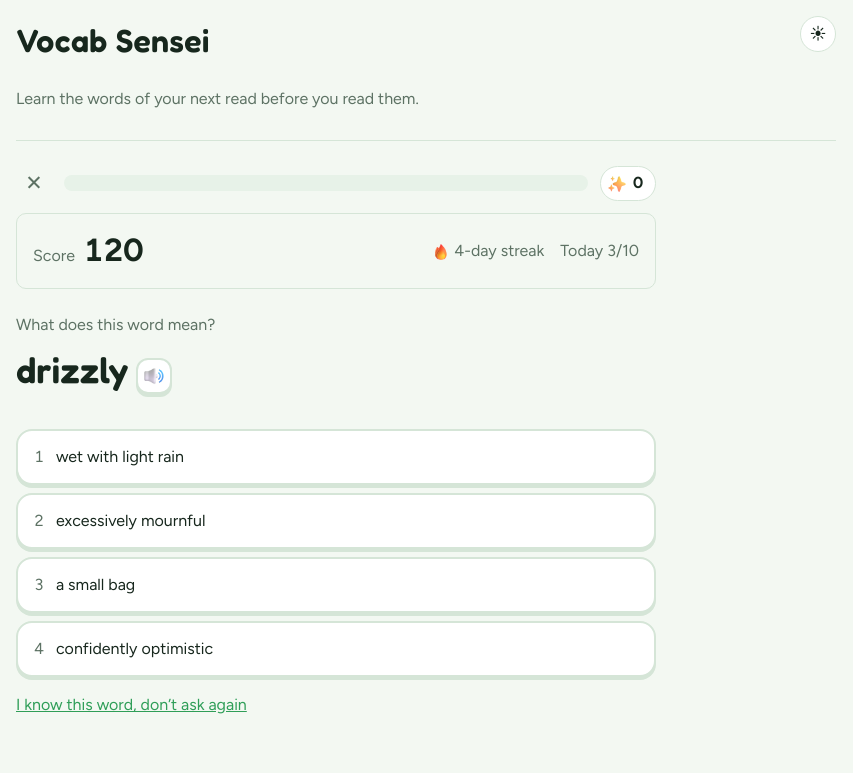
Test: quiz › never ends: Next brings another question
Click the button "1 wet with light rain".
click(120, 457)  # box [16, 430, 656, 486]
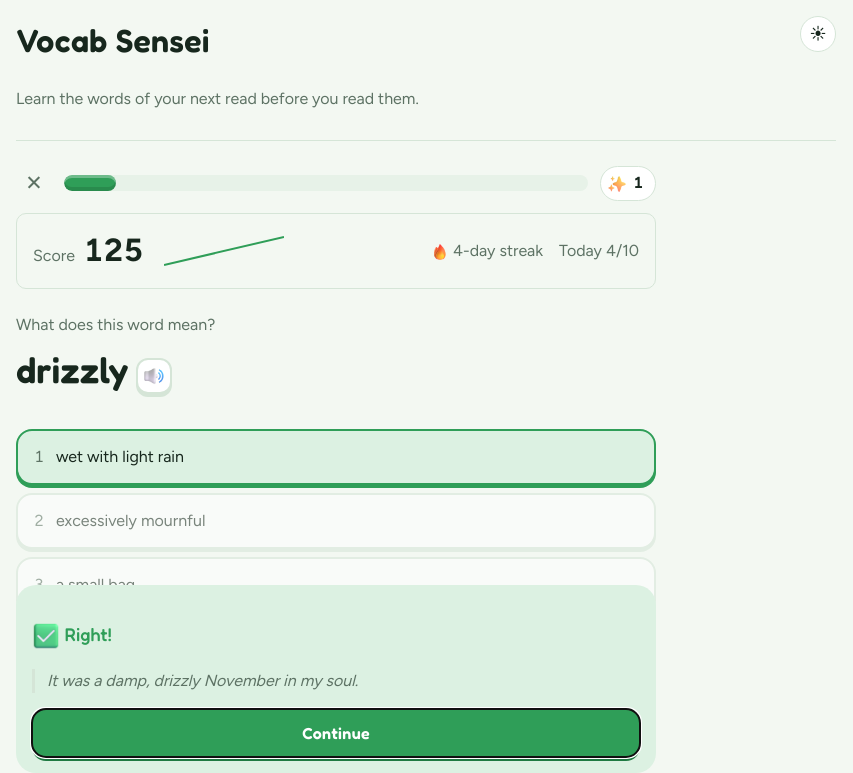
Click the button "Continue".
click(336, 733)  # box [32, 709, 640, 757]
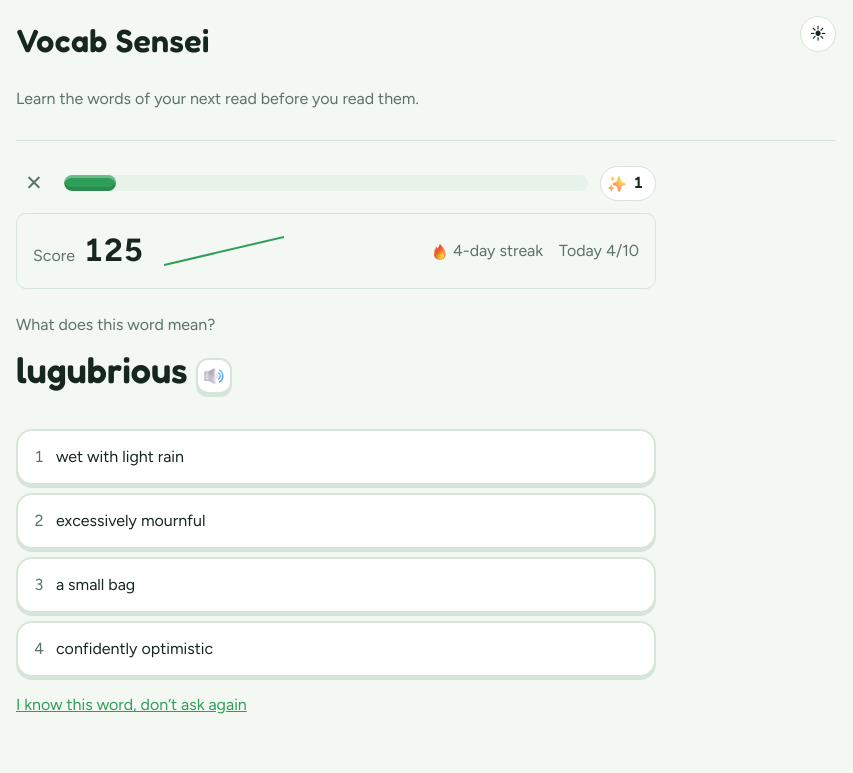
Check: the heading "lugubrious" is shown, box [16, 342, 188, 398]
Check: the message "Right!" is gone
